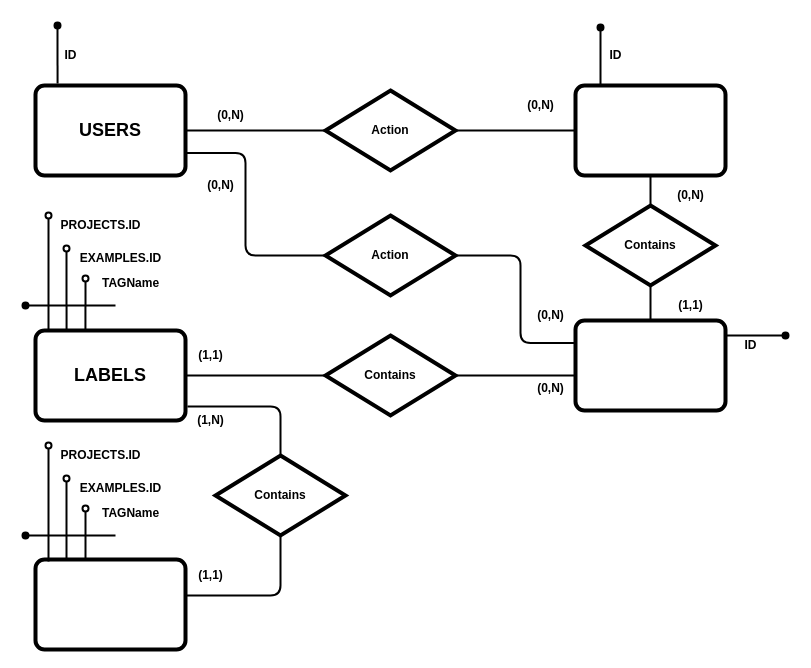
Image size: 811x668. Some labels were removed from this diagram. The box of each missing label's shape, as (x1, y1, x2, y2) in pixels:
EXAMPLES: (573, 318, 727, 412)
PROJECTS: (573, 83, 727, 177)
TAGVALUES: (33, 557, 187, 651)
